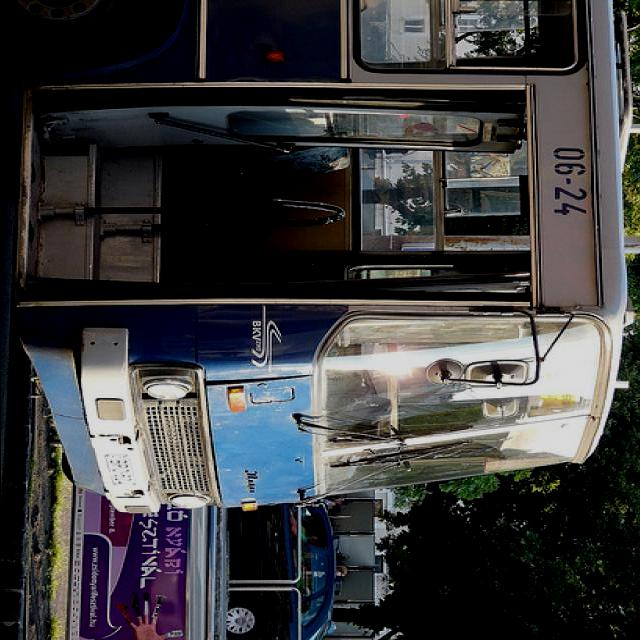bus: (3, 1, 634, 516)
